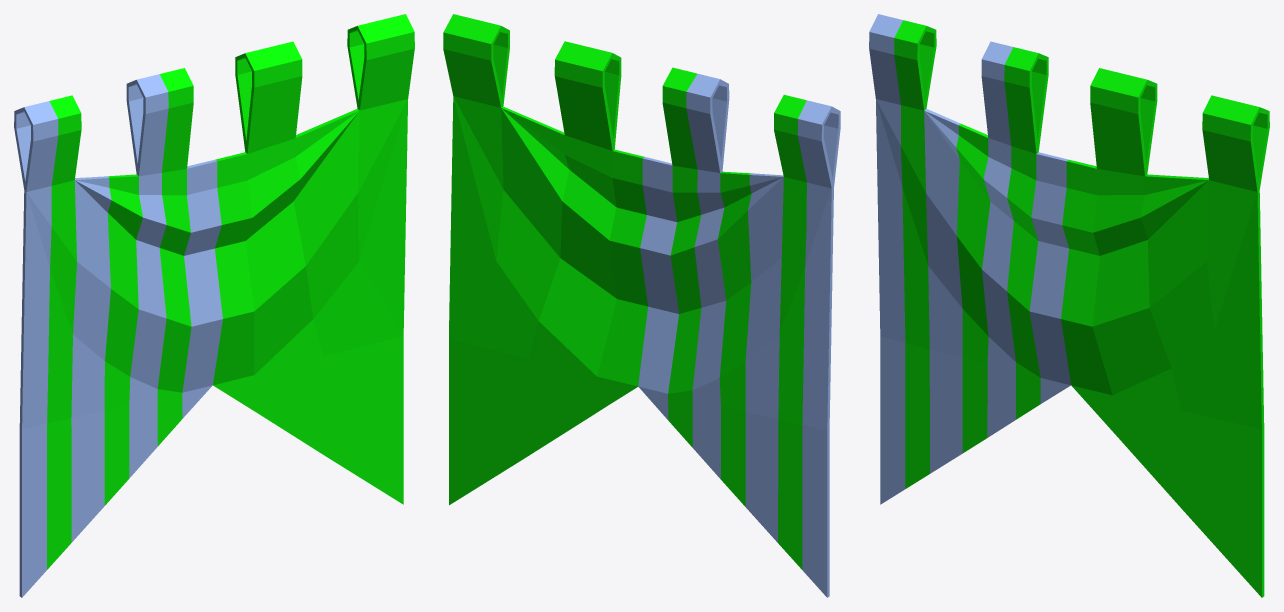
The model's file is SM_Flag_Banner_Short_B_Fantasy.fbx.
3 renders of one model, left to right at view 1: azimuth 30°, elevation 25°; view 2: azimuth 150°, elevation 25°; view 3: azimuth 330°, elevation 25°, orthographic.
Parts seen in each view (by area): view 1: flag-banner-short-b-fantasy; view 2: flag-banner-short-b-fantasy; view 3: flag-banner-short-b-fantasy.
Part boxes in pixels (x1,y1,x2,y2): flag-banner-short-b-fantasy: (14,14,414,597); flag-banner-short-b-fantasy: (443,14,840,597); flag-banner-short-b-fantasy: (869,14,1269,597).
Bounding box in the file's own units: 0.9567 × 1.18 × 0.0831.
